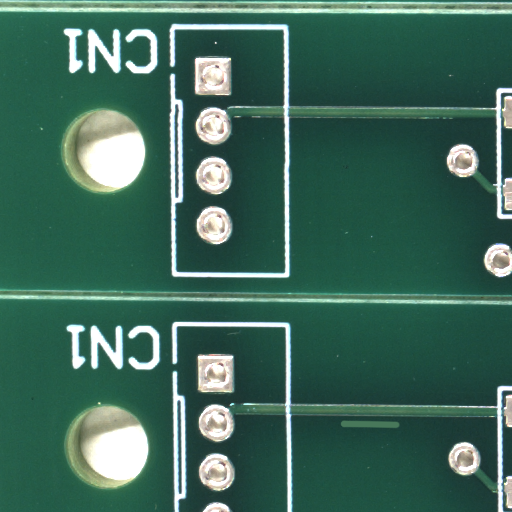Spurious_copper: (370, 424, 433, 435)
